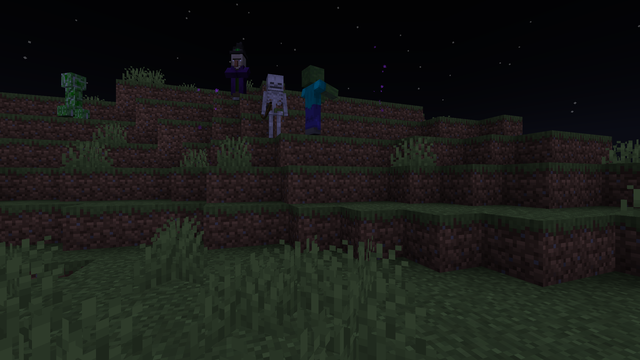creepers: (59, 69, 87, 118)
sorcieres: (231, 50, 246, 101)
squelettes: (264, 73, 285, 139)
zombies: (300, 66, 324, 136)
